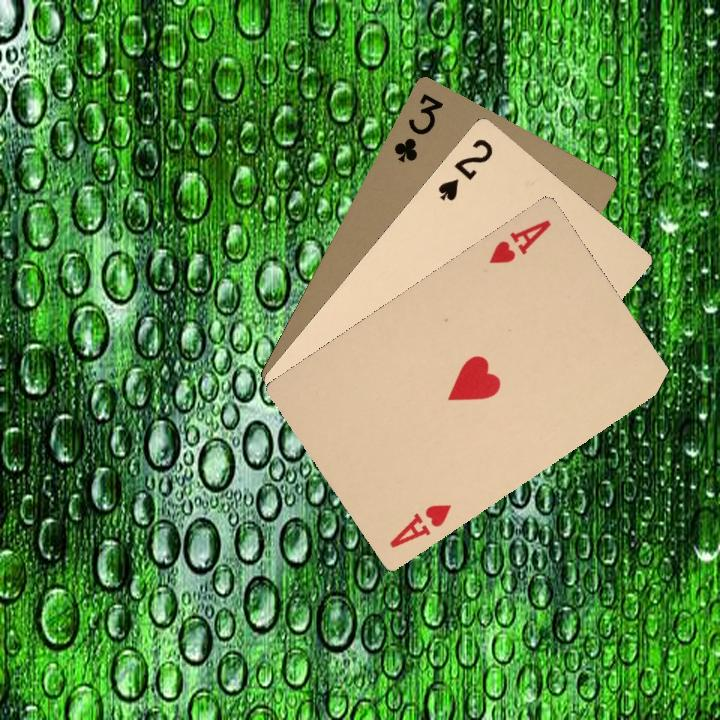2s: (434, 133, 496, 204)
3c: (389, 89, 446, 165)
Ah: (485, 215, 554, 267), (385, 500, 454, 551)
